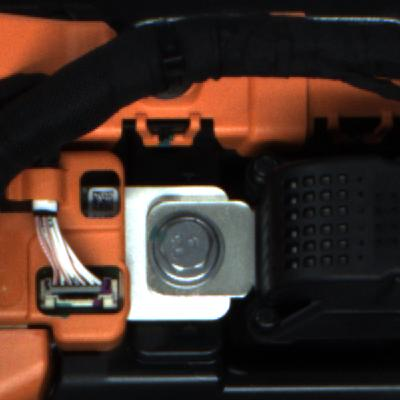nut_b: (146, 208, 230, 292)
